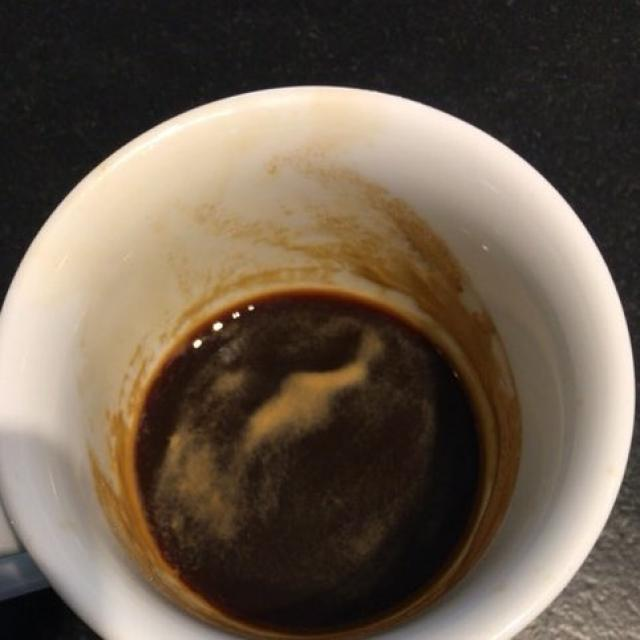coffee-with-caffeine: (143, 291, 463, 615)
